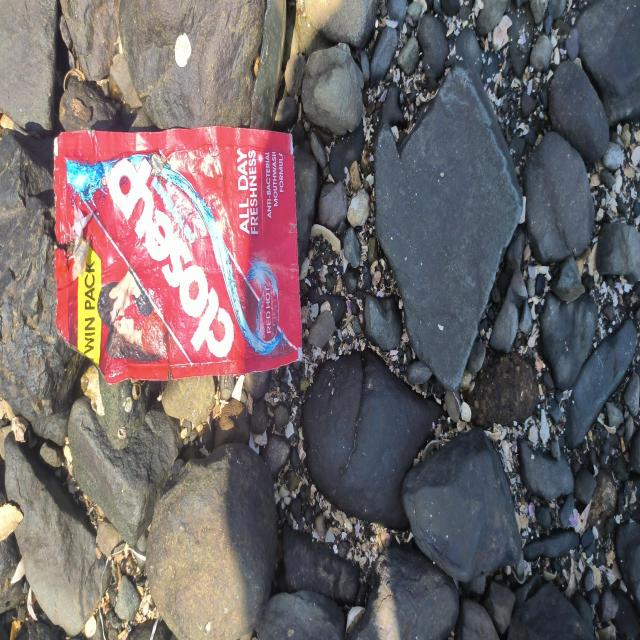plastic_waste: (53, 124, 305, 387)
